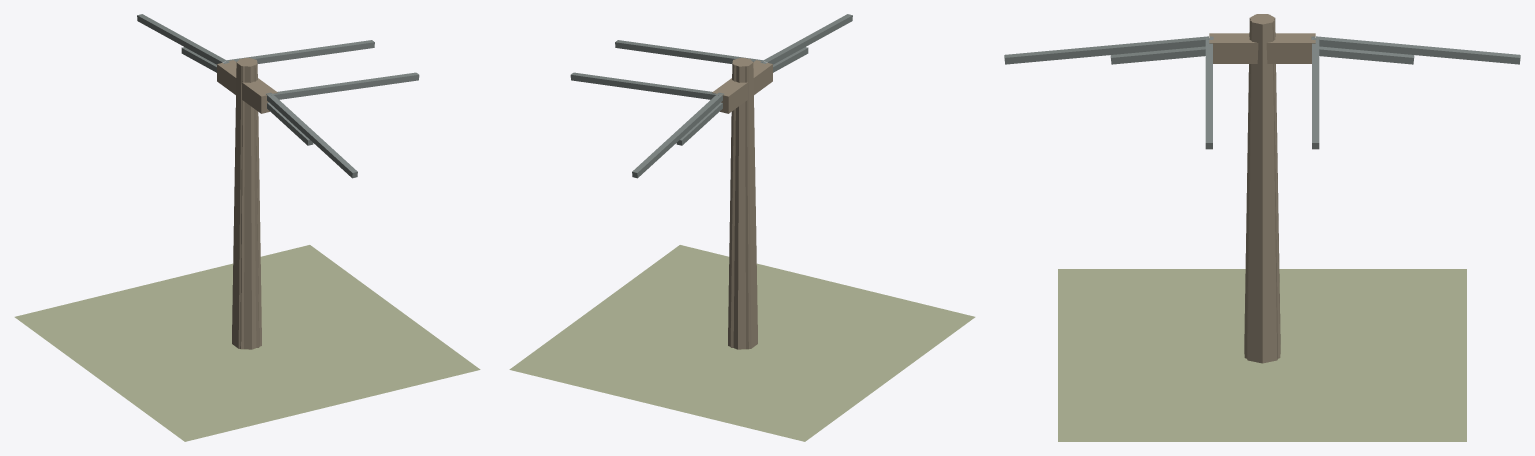
3 views of the same model, side by side, from view 1: azimuth 30°, elevation 25°; view 2: azimuth 150°, elevation 25°; view 3: azimuth 270°, elevation 25° (orthographic). The views are drawn at different scales.
Visible parts, largest first — view 1: Near, Far; view 2: Near, Far; view 3: Near, Far.
Part boxes in pixels (<box>): Near: <box>14,14,480,441</box>; Far: <box>237,57,259,349</box>; Near: <box>509,14,975,441</box>; Far: <box>730,57,752,349</box>; Near: <box>1004,14,1520,441</box>; Far: <box>1244,16,1280,358</box>.
Bounding box in the file's own units: 1 × 0.91 × 1.26.
